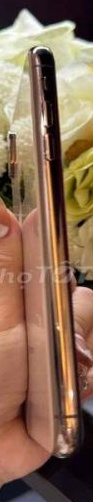scratch: (48, 424, 87, 461), (49, 316, 76, 337)
